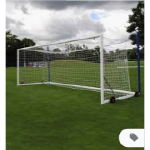goals: (15, 33, 138, 106)
